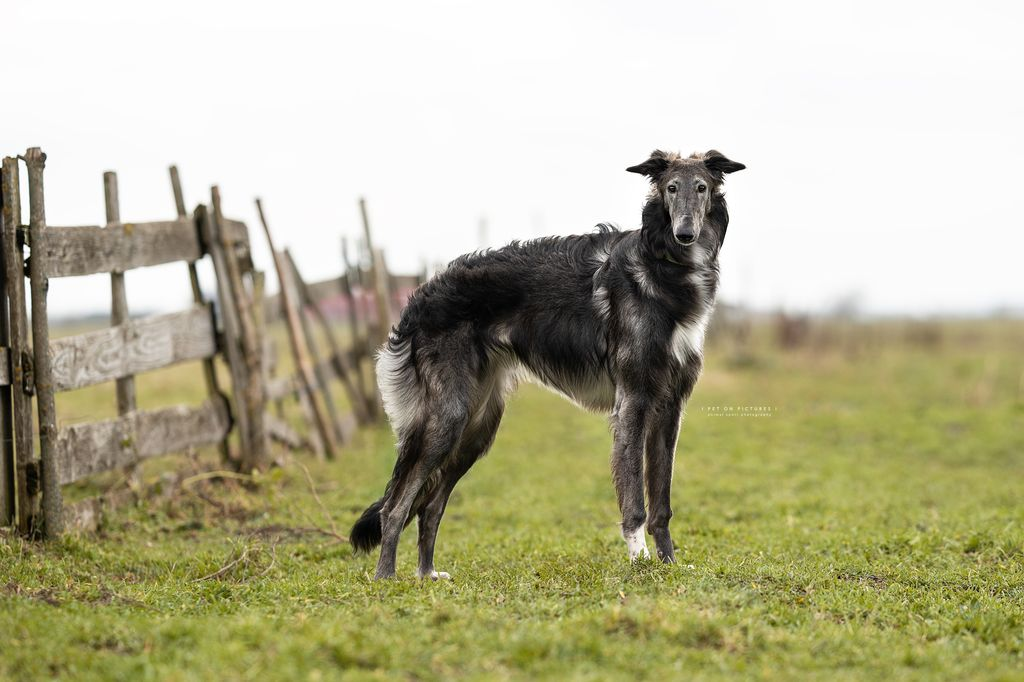borzoi: (346, 146, 787, 590)
